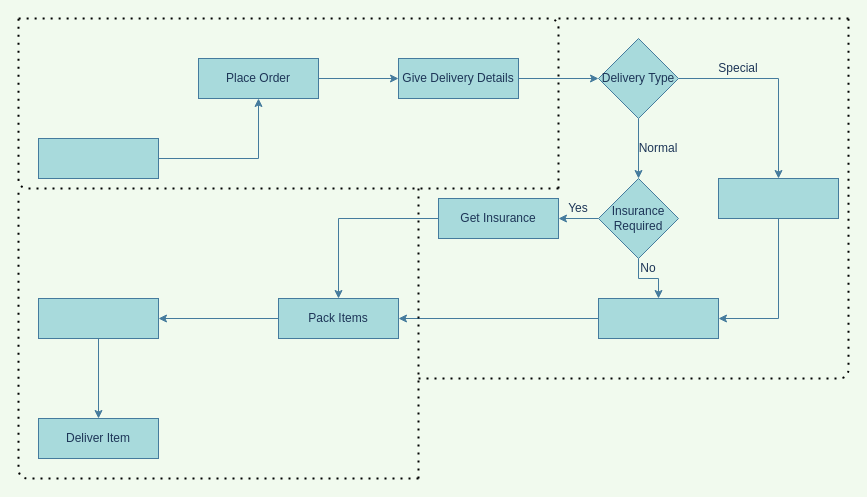
The diagram is 867 pixels wide and 497 high, and some of its shapes have lost their labels. The shapes that lost their labels are listed below. From the top down, each one's centre as x and y in pixels, then its label:
the point at 98,158: Customer Registration
the point at 778,198: Check requirements
the point at 98,318: Check Destination
the point at 658,318: Make Payment
